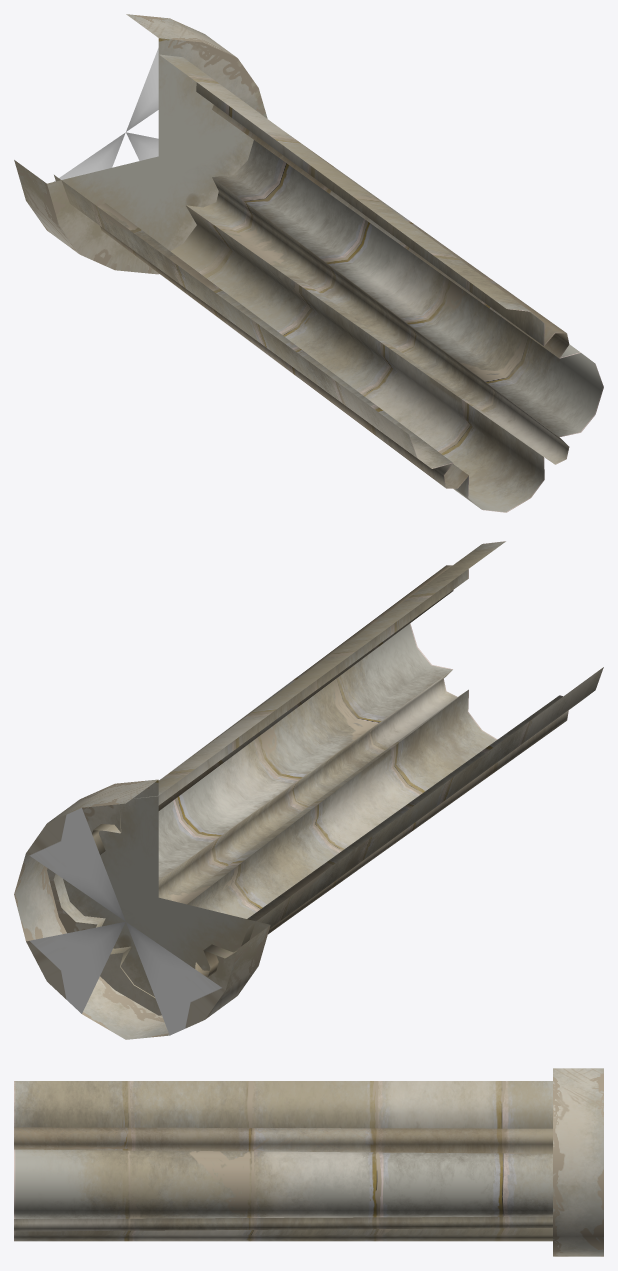
File: Cath_ThreeQuartColumn.fbx
The picture shows the model from 3 angles, top to bottom: view 1: azimuth 30°, elevation 25°; view 2: azimuth 150°, elevation 25°; view 3: azimuth 270°, elevation 25°; orthographic projection. The views are drawn at different scales.
Visible parts, largest first — view 1: Cath_ThreeQuartColumn; view 2: Cath_ThreeQuartColumn; view 3: Cath_ThreeQuartColumn.
Boxes of the visible parts, x1,y1,x2,y2 form: Cath_ThreeQuartColumn: (14, 14, 603, 512); Cath_ThreeQuartColumn: (14, 541, 603, 1039); Cath_ThreeQuartColumn: (14, 1068, 603, 1256).
Bounding box in the file's own units: 138 × 140 × 408.
